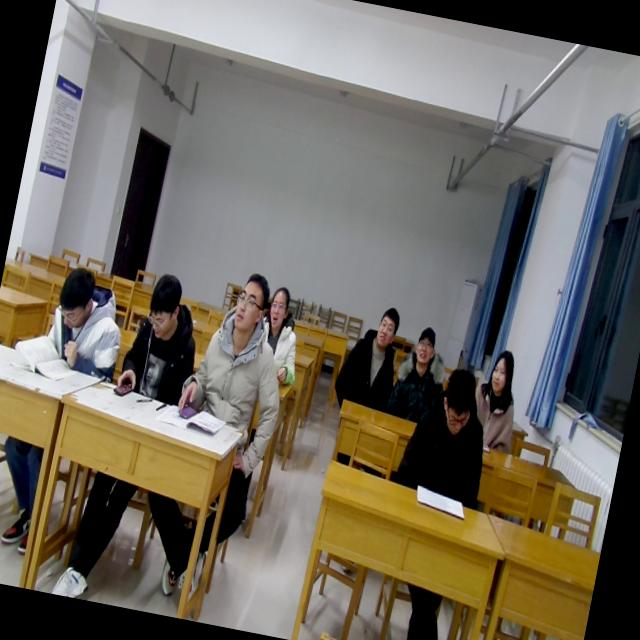bow: (39, 260, 132, 383)
down: (432, 360, 485, 440), (51, 256, 103, 333), (138, 268, 188, 346)
lookup: (226, 266, 276, 339), (482, 342, 519, 398), (368, 300, 404, 356), (262, 280, 294, 336), (409, 318, 442, 371)
sit: (174, 263, 304, 439), (391, 359, 501, 508), (113, 268, 210, 411), (329, 296, 409, 416), (386, 320, 458, 429), (461, 345, 531, 454), (250, 283, 312, 390)
